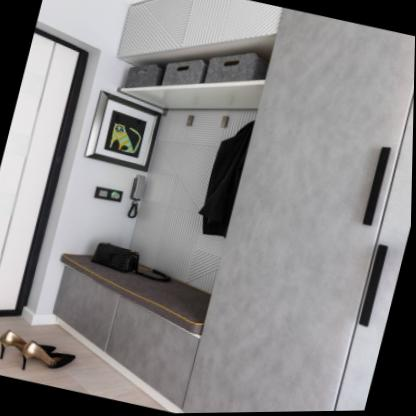Wooden floor: (0, 314, 185, 414)
